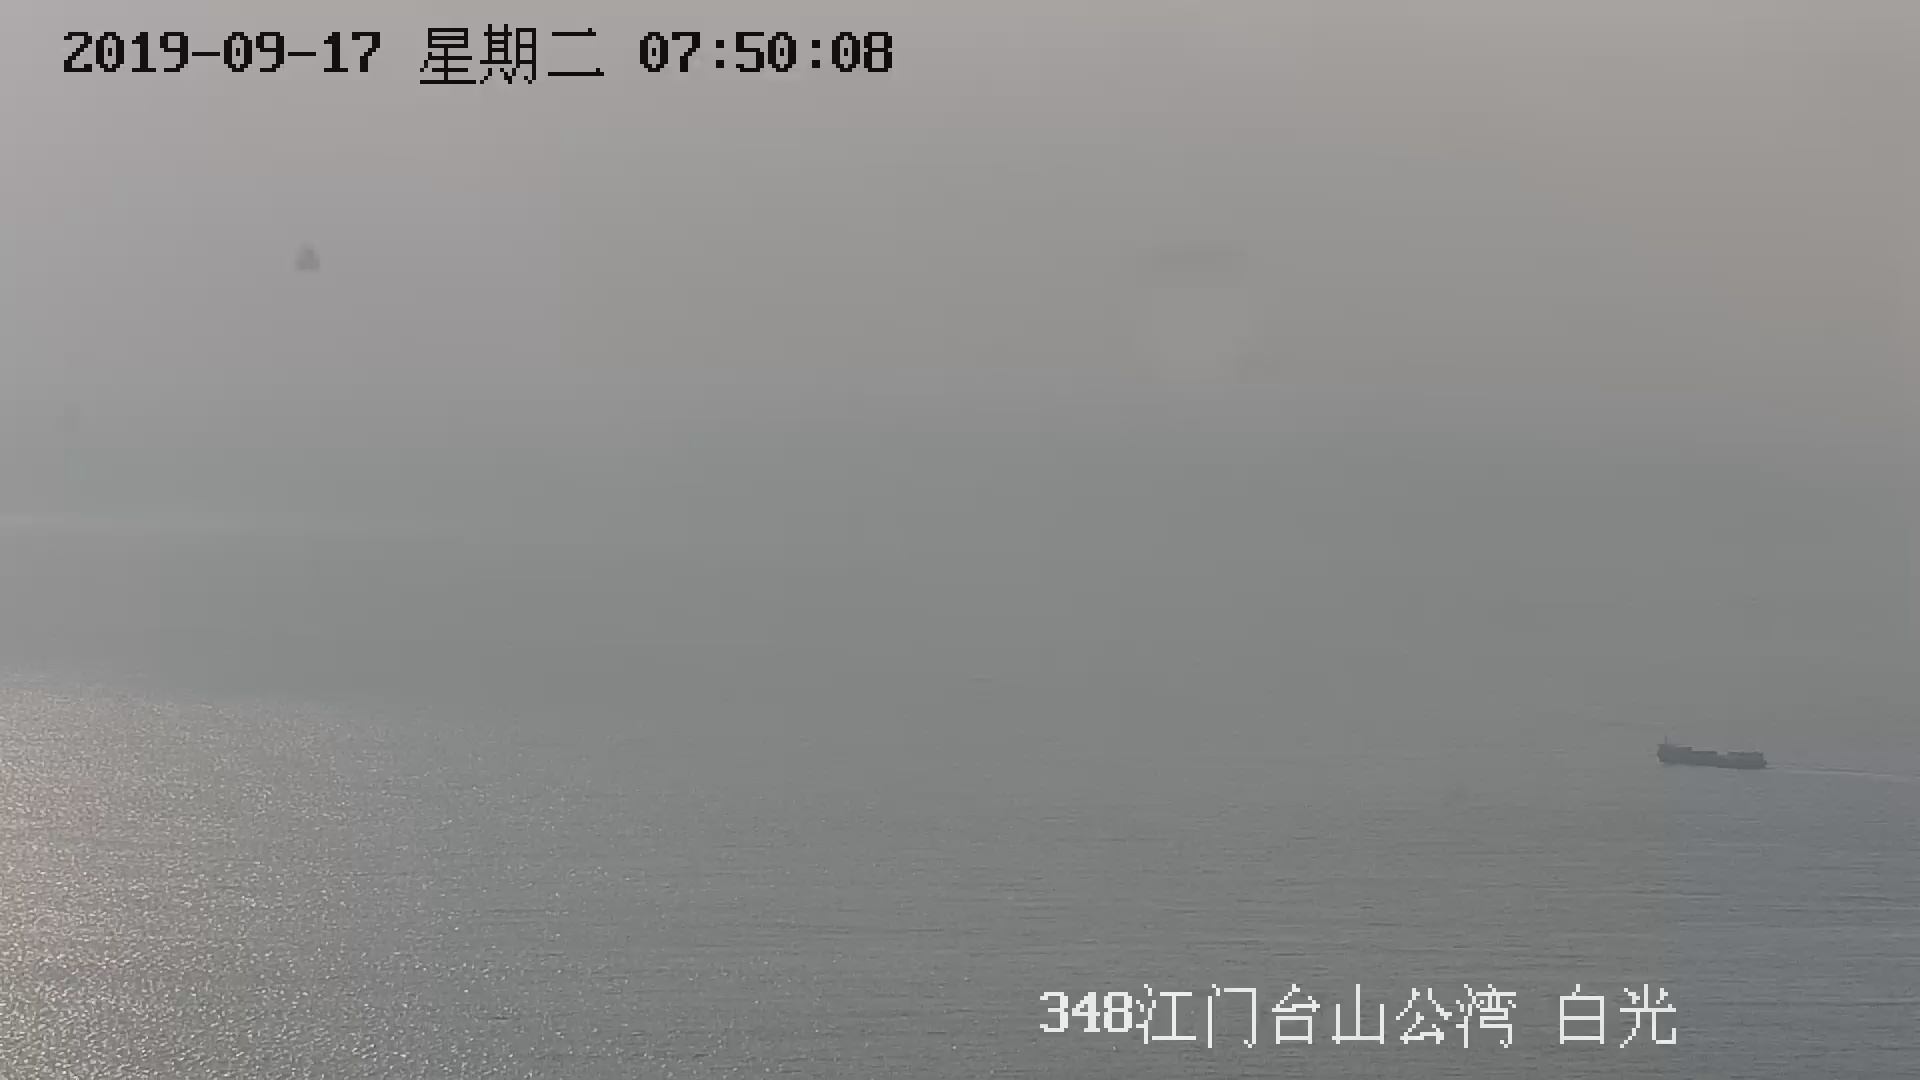ship: (1656, 740, 1766, 770)
